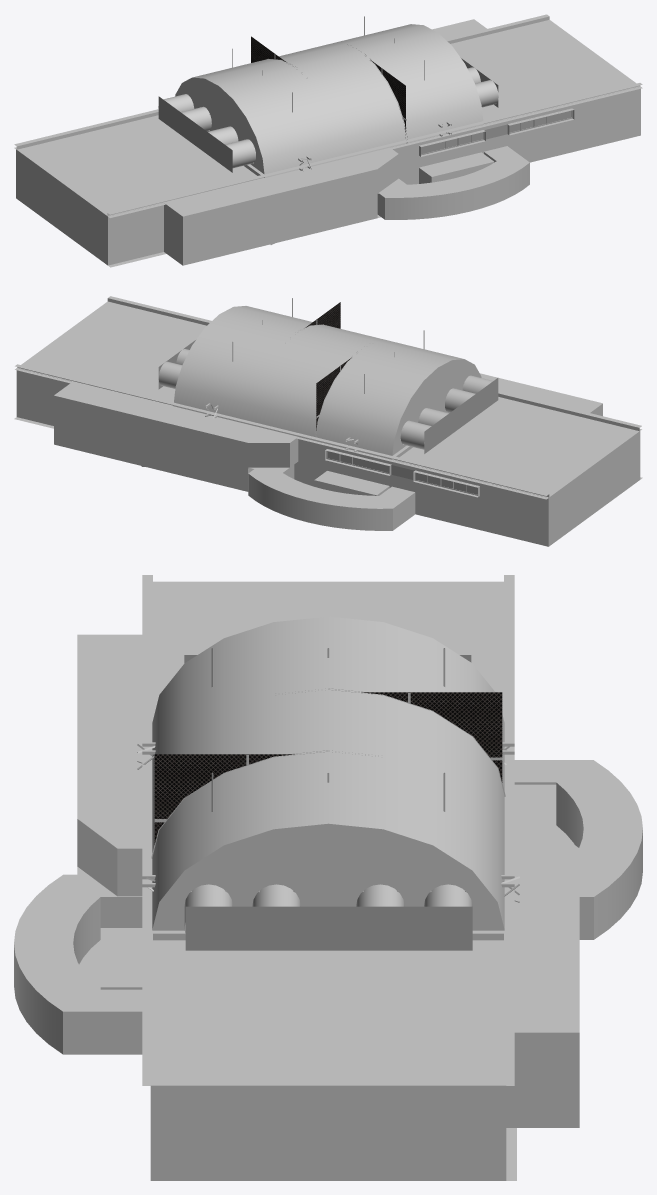
File: WH2FinalV1.fbx
The picture shows the model from 3 angles, top to bottom: view 1: azimuth 30°, elevation 25°; view 2: azimuth 150°, elevation 25°; view 3: azimuth 270°, elevation 25°; orthographic projection. The views are drawn at different scales.
Parts seen in each view (by area): view 1: MainWall (×2), ceiling_Flat (×2), ceiling_Round (×2), Corridoor, CeilingFrame (×2), OutsideLight1, OutsideLight, Net0 (×2); view 2: MainWall (×2), ceiling_Flat (×2), ceiling_Round (×2), Corridoor, CeilingFrame (×2), OutsideLight1, OutsideLight, Net0 (×2); view 3: ceiling_Flat (×2), MainWall (×2), ceiling_Round (×2), Corridoor (×2), OutsideLight1, CeilingFrame (×2), Net0 (×2), MainFrame (×2), Ground.
Boxes of the visible parts, left/top/right/bottom form: MainWall (×2): left=16, top=19, right=640, bottom=265; ceiling_Flat (×2): left=16, top=20, right=640, bottom=216; ceiling_Round (×2): left=192, top=24, right=483, bottom=177; Corridoor: left=377, top=146, right=529, bottom=219; CeilingFrame (×2): left=14, top=14, right=642, bottom=217; OutsideLight1: left=158, top=96, right=232, bottom=172; OutsideLight: left=421, top=110, right=572, bottom=155; Net0 (×2): left=251, top=36, right=405, bottom=131; MainWall (×2): left=16, top=368, right=640, bottom=546; ceiling_Flat (×2): left=17, top=301, right=639, bottom=497; ceiling_Round (×2): left=173, top=306, right=463, bottom=459; Corridoor: left=248, top=462, right=415, bottom=530; CeilingFrame (×2): left=15, top=296, right=641, bottom=499; OutsideLight1: left=424, top=378, right=498, bottom=453; OutsideLight: left=326, top=451, right=477, bottom=495; Net0 (×2): left=305, top=302, right=351, bottom=430; ceiling_Flat (×2): left=150, top=581, right=506, bottom=1085; MainWall (×2): left=77, top=634, right=579, bottom=1180; ceiling_Round (×2): left=152, top=616, right=504, bottom=929; Corridoor (×2): left=14, top=760, right=642, bottom=1054; OutsideLight1: left=185, top=906, right=472, bottom=950; CeilingFrame (×2): left=142, top=575, right=514, bottom=1085; Net0 (×2): left=154, top=692, right=502, bottom=844; MainFrame (×2): left=137, top=648, right=519, bottom=930; Ground: left=79, top=940, right=516, bottom=1180.
Bounding box in the file's own units: 114 × 23.22 × 60.1.
